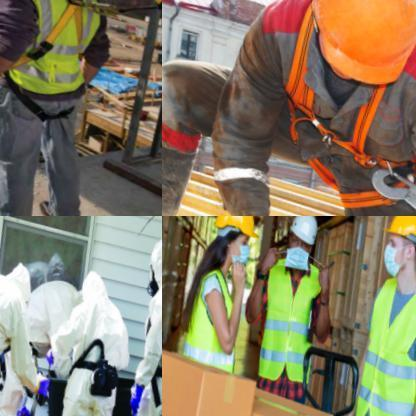vest: (180, 0, 415, 215), (27, 293, 145, 415), (0, 0, 124, 110), (333, 272, 415, 415), (244, 256, 330, 384), (102, 272, 161, 415), (169, 263, 247, 365), (0, 264, 51, 415)
